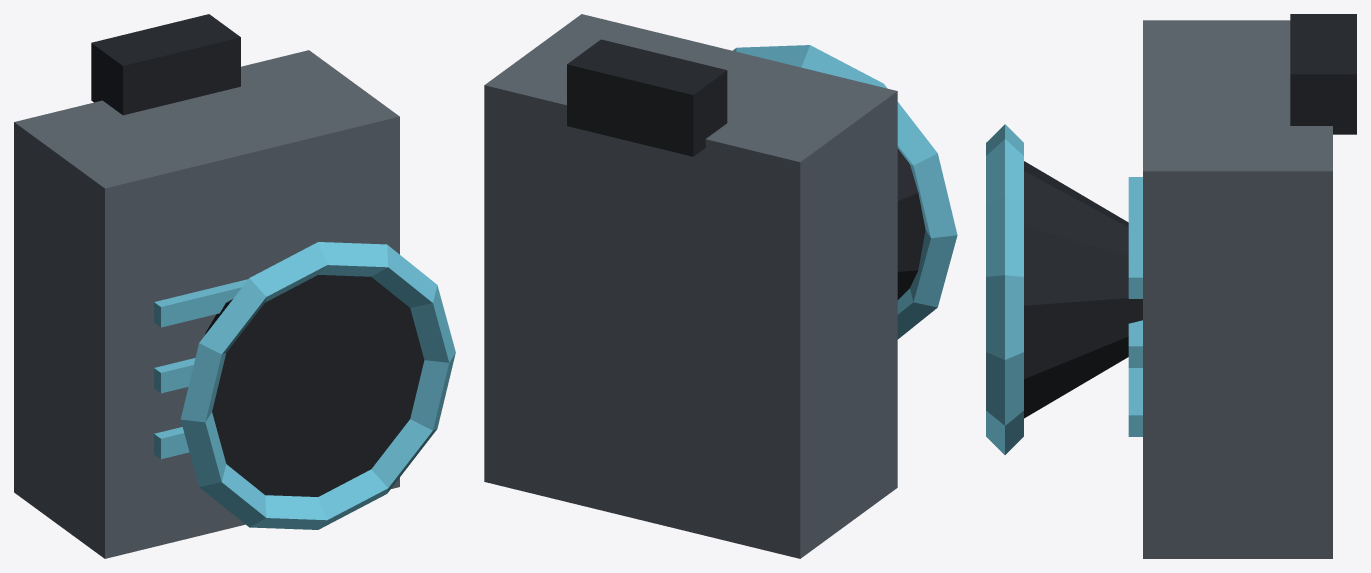
File: stealth-field-generator.glb
3 renders of one model, left to right at view 1: azimuth 30°, elevation 25°; view 2: azimuth 150°, elevation 25°; view 3: azimuth 270°, elevation 25°, orthographic. The views are drawn at different scales.
Visible parts, largest first — view 1: m; view 2: m; view 3: m.
Boxes of the visible parts, x1,y1,x2,y2 form: m: (14, 14, 455, 558); m: (484, 14, 957, 558); m: (986, 14, 1356, 558).
Bounding box in the file's own units: 0.0735 × 0.1 × 0.0765.
